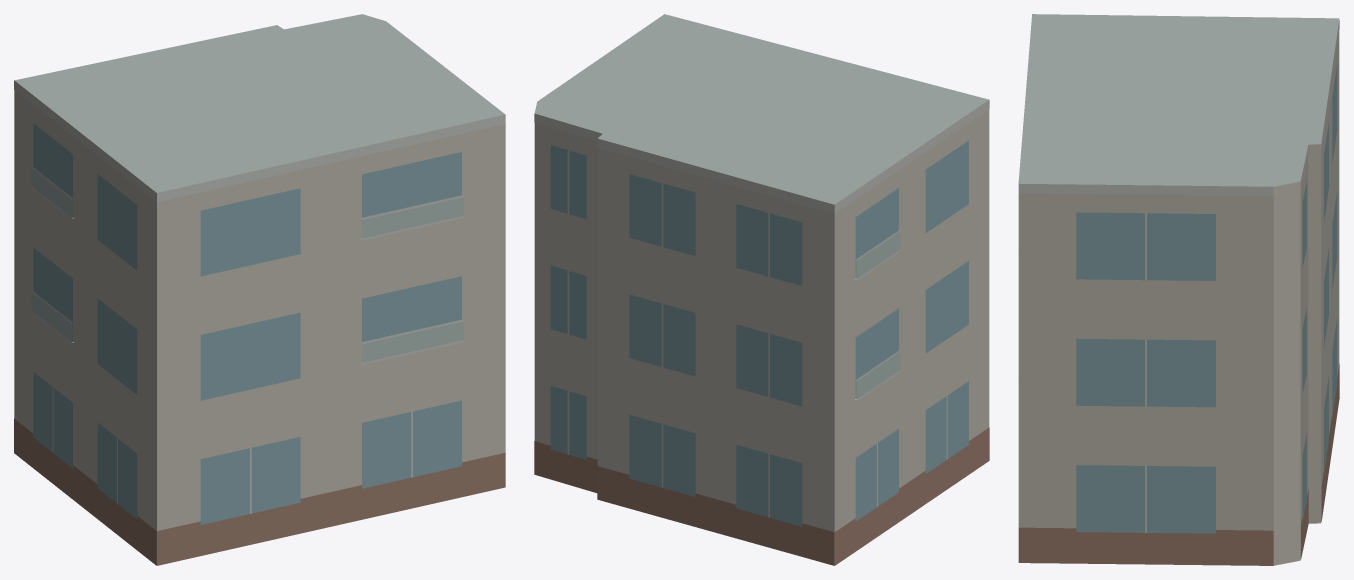
File: survey-upis-33024542.glb
The picture shows the model from 3 angles, left to right: view 1: azimuth 30°, elevation 25°; view 2: azimuth 150°, elevation 25°; view 3: azimuth 270°, elevation 25°; orthographic projection. The views are drawn at different scales.
Parts seen in each view (by area): view 1: survey-upis-33024542.tmp; view 2: survey-upis-33024542.tmp; view 3: survey-upis-33024542.tmp.
Part boxes in pixels (<box>): survey-upis-33024542.tmp: <box>14,14,505,565</box>; survey-upis-33024542.tmp: <box>534,14,989,565</box>; survey-upis-33024542.tmp: <box>1018,14,1339,565</box>.
Size of the model in its own units: 9.58 by 9.8 by 7.53.
